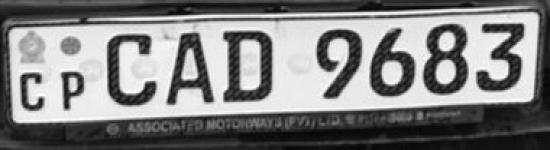3: (472, 20, 529, 96)
6: (367, 21, 420, 105)
8: (421, 20, 472, 99)
9: (314, 24, 364, 107)
A: (161, 29, 218, 110)
C: (103, 28, 161, 110), (18, 67, 51, 115)
D: (217, 25, 277, 107)
P: (57, 66, 91, 112)
